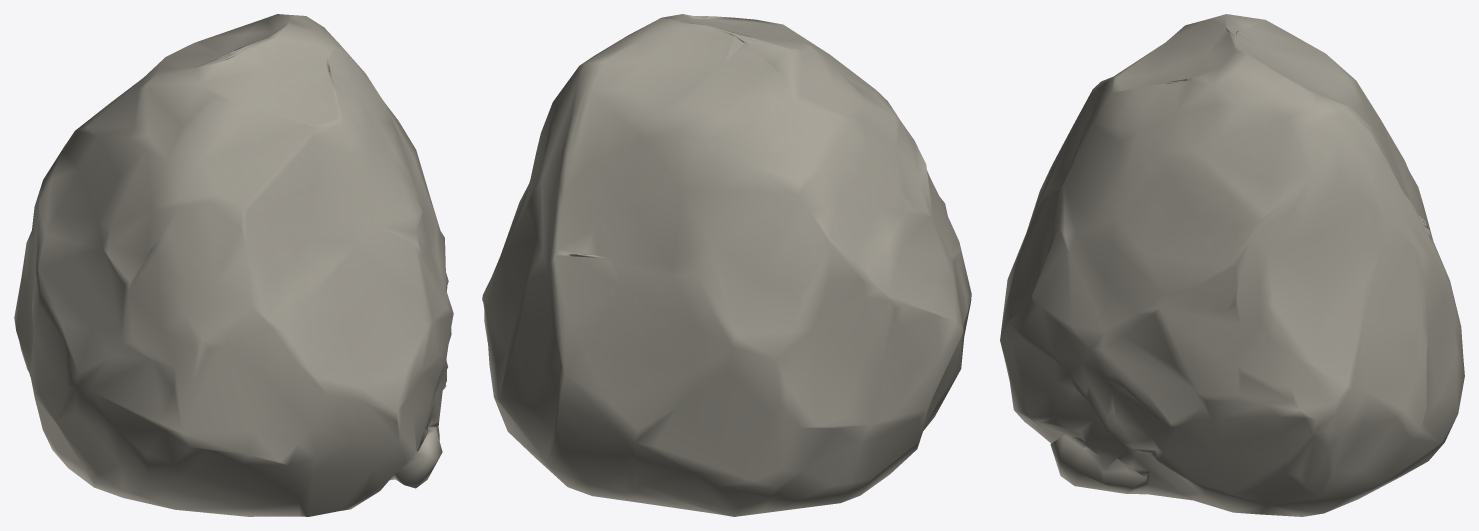
Rendered from rock2.fbx.
The picture shows the model from 3 angles, left to right: view 1: azimuth 30°, elevation 25°; view 2: azimuth 150°, elevation 25°; view 3: azimuth 270°, elevation 25°; orthographic projection.
Visible parts, largest first — view 1: tripo_node_7a9234c9; view 2: tripo_node_7a9234c9; view 3: tripo_node_7a9234c9.
Part boxes in pixels (x1,y1,x2,y2): tripo_node_7a9234c9: (14, 14, 453, 516); tripo_node_7a9234c9: (482, 14, 971, 516); tripo_node_7a9234c9: (1000, 14, 1464, 516).
Size of the model in its own units: 0.9826 by 0.9604 by 0.9761.
